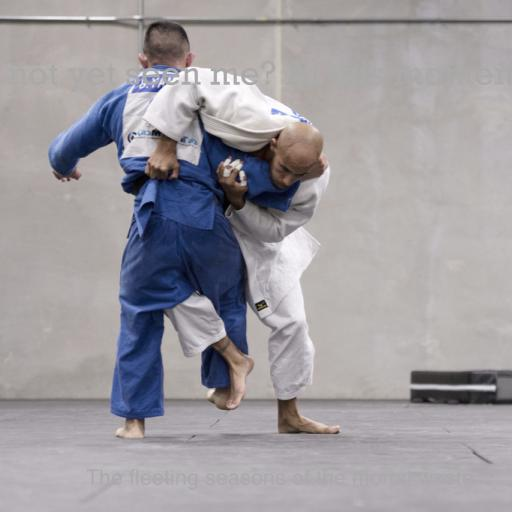Rockwell: (0, 60, 512, 93)
SF Pro: (86, 469, 474, 490)
